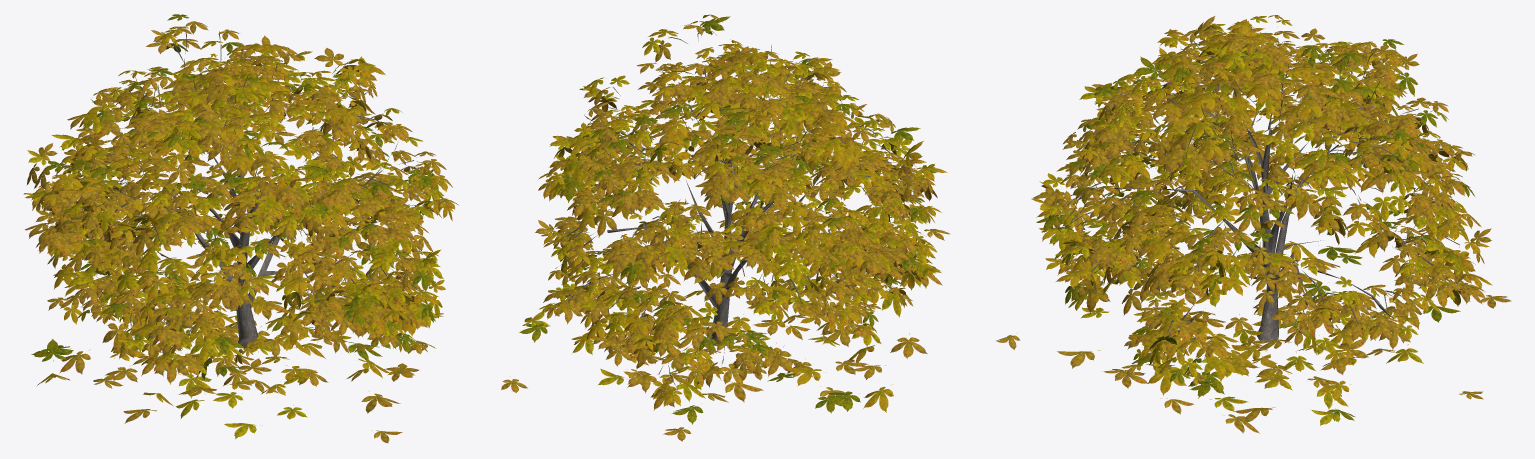
File: aesculus-pavia-ld-s103-proof.glb
3 views of the same model, side by side, from view 1: azimuth 30°, elevation 25°; view 2: azimuth 150°, elevation 25°; view 3: azimuth 270°, elevation 25° (orthographic). The views are drawn at different scales.
Parts seen in each view (by area): view 1: ForestPlantCatalog_aesculus-pavia-ld-s103; view 2: ForestPlantCatalog_aesculus-pavia-ld-s103; view 3: ForestPlantCatalog_aesculus-pavia-ld-s103.
Boxes of the visible parts, box(x1,y1,x2,y2) form: ForestPlantCatalog_aesculus-pavia-ld-s103: box(23, 14, 458, 443); ForestPlantCatalog_aesculus-pavia-ld-s103: box(501, 14, 950, 441); ForestPlantCatalog_aesculus-pavia-ld-s103: box(996, 15, 1511, 433).
Size of the model in its own units: 12.94 by 10 by 14.93.
11 materials, 11 textured.
